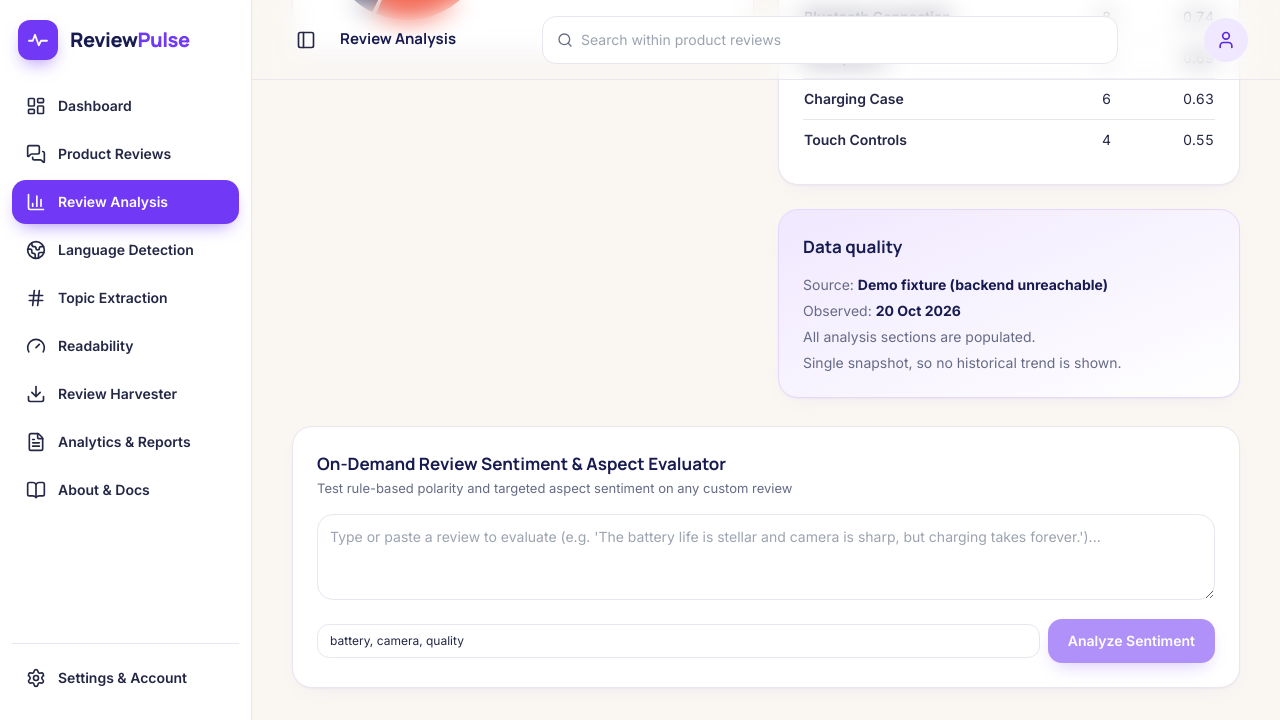
Interactive On-Demand Tool Integrations › ANAL-04: executes sentiment evaluation mutation and displays ABSA polarity chips
The image size is (1280, 720).
(page scrolled)
In the text box with placeholder "Type or paste a review to evaluate": (766, 557) [317,514,1215,600], type "Battery is great."
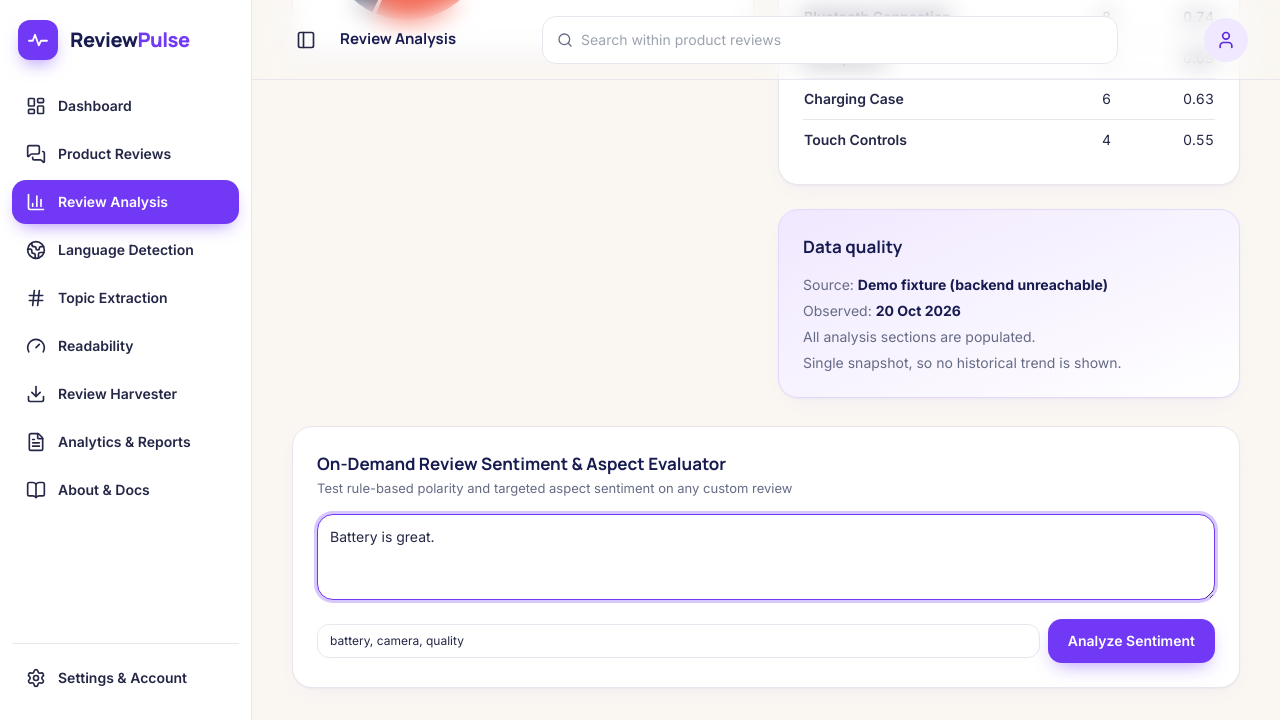
Click the button "Analyze Sentiment": (1131, 640) [1048,618,1215,662]
(page scrolled)
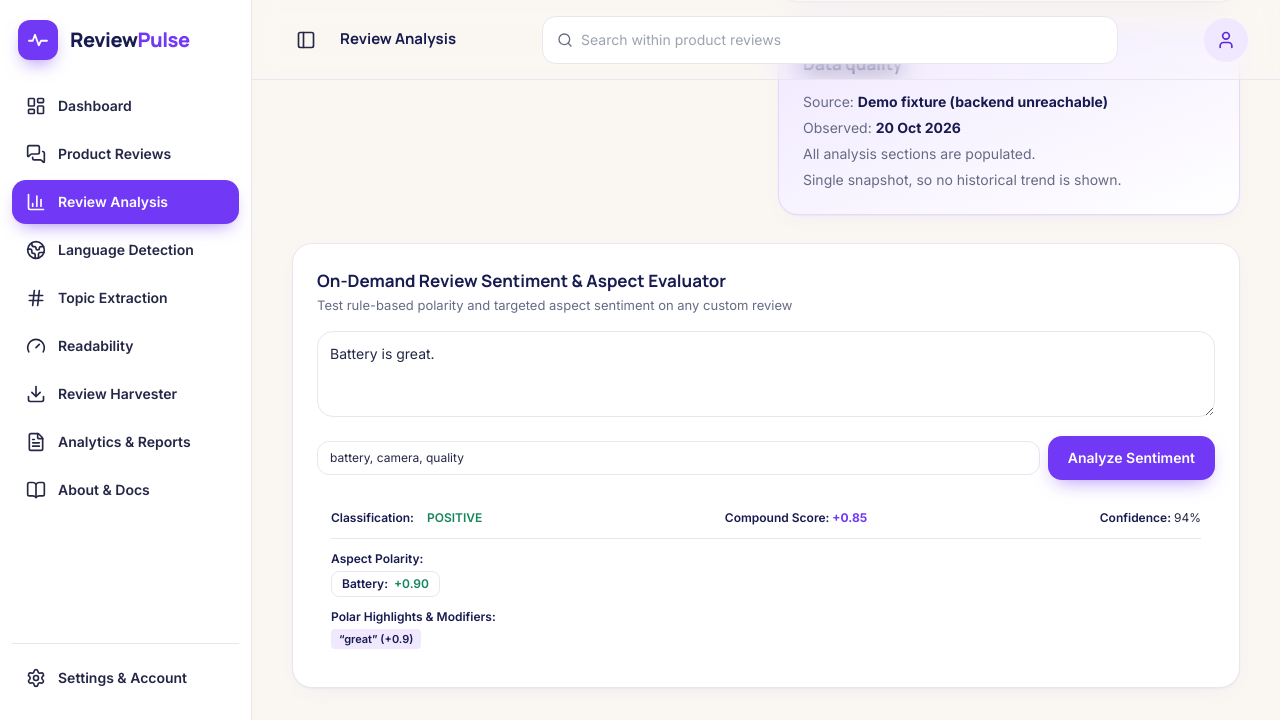
Check: the text "POSITIVE" is shown, box [427,510,482,524]
Check: the text "+0.85" is shown, box [832,510,867,524]
Check: the text "battery:" is shown, box [342,576,388,592]
